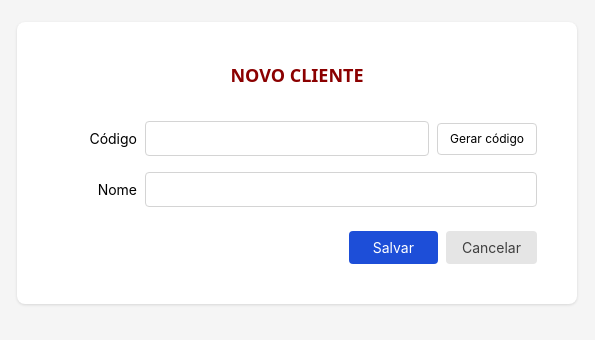
Test: ClienteNovo › código duplicado › exibe mensagem de erro quando API retorna 409
Type "10001" into the number field labelled "Código" at (287, 138), box [145,121,429,156]
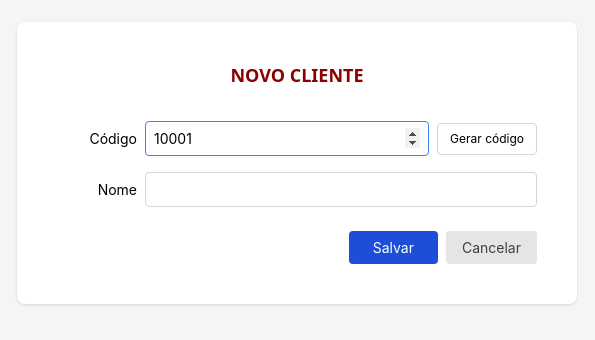
Type "Teste" into the field labelled "Nome" at (341, 190), box [145,172,537,207]
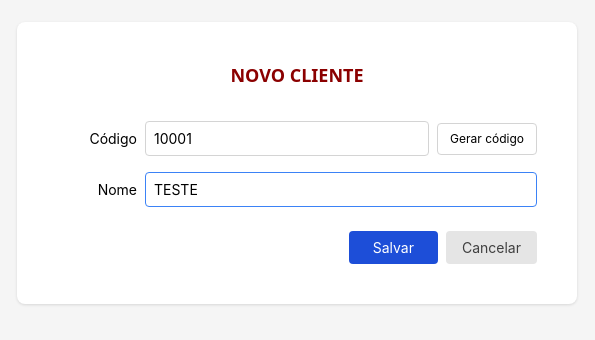
Click the button "Salvar" at (393, 248), box [349,231,438,264]
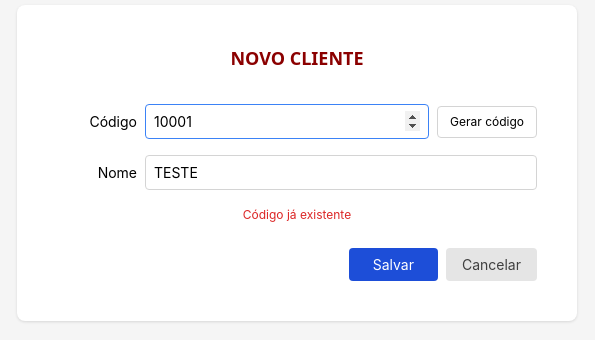
Check: the text "Código já existente" is shown, box [243,207,351,222]
